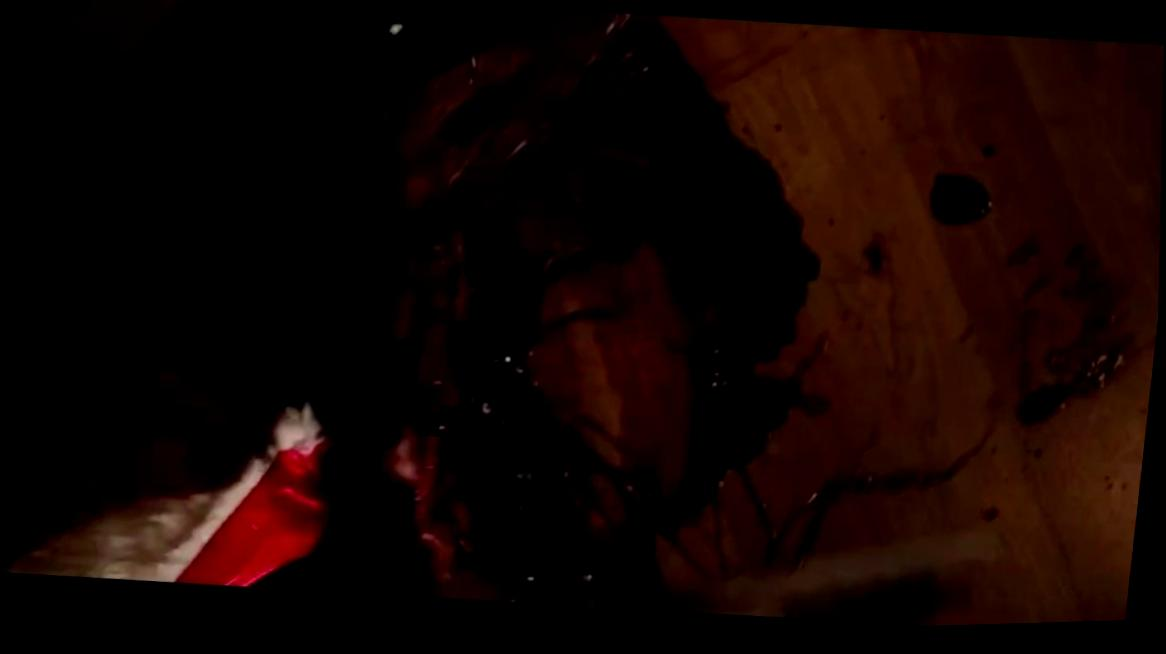Fire: (310, 14, 993, 611), (1002, 234, 1131, 435), (928, 179, 997, 235), (864, 244, 887, 283), (983, 148, 1004, 160), (993, 518, 999, 526)
